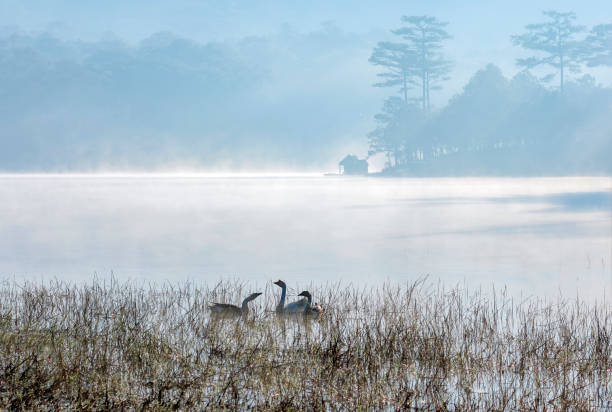goose: (205, 287, 263, 327), (269, 279, 306, 318), (298, 287, 328, 323)
